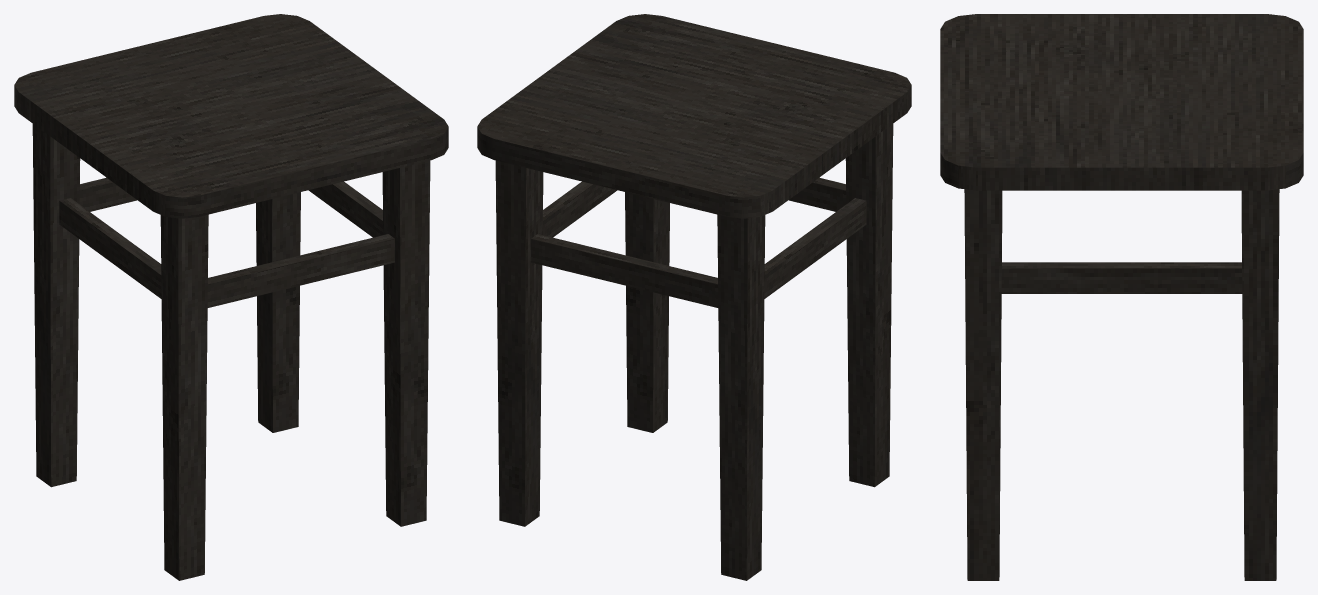
Rendered from chair_mp_2.glb.
3 views of the same model, side by side, from view 1: azimuth 30°, elevation 25°; view 2: azimuth 150°, elevation 25°; view 3: azimuth 270°, elevation 25° (orthographic). The views are drawn at different scales.
Parts seen in each view (by area): view 1: chair_mp_2; view 2: chair_mp_2; view 3: chair_mp_2.
Boxes of the visible parts, x1=… form: chair_mp_2: x1=14, y1=14, x2=448, y2=580; chair_mp_2: x1=477, y1=14, x2=911, y2=580; chair_mp_2: x1=940, y1=14, x2=1303, y2=580.
Bounding box in the file's own units: 0.4607 × 0.594 × 0.4607.
1 material, 1 textured.
